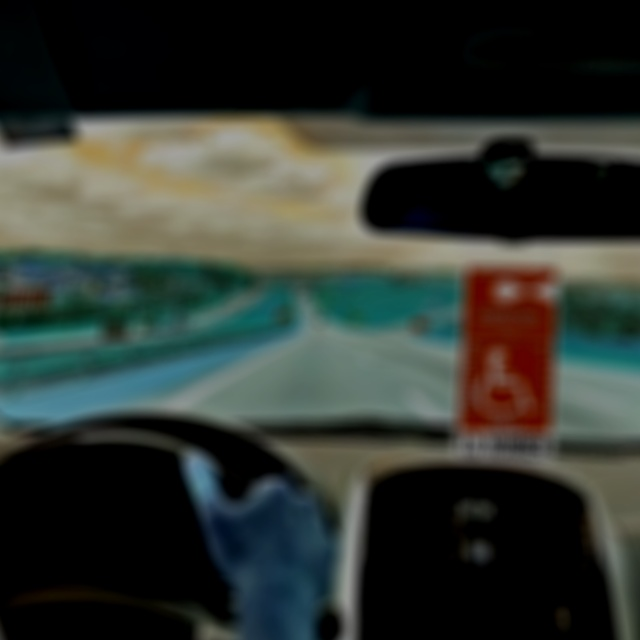ISA: (469, 339, 545, 424)
